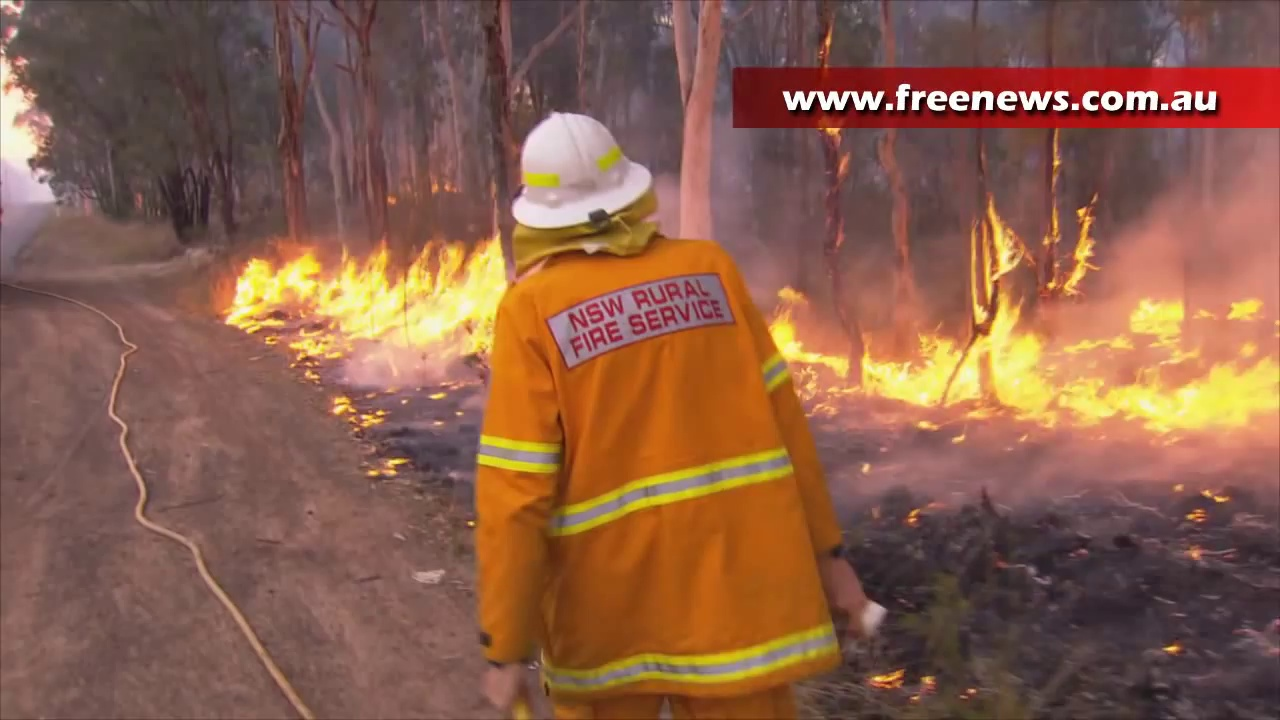fire: (231, 246, 503, 352), (1060, 354, 1280, 432), (866, 331, 1050, 424), (971, 209, 1028, 305), (1063, 205, 1098, 293), (1132, 294, 1178, 343), (770, 290, 803, 355), (1229, 296, 1265, 322)
